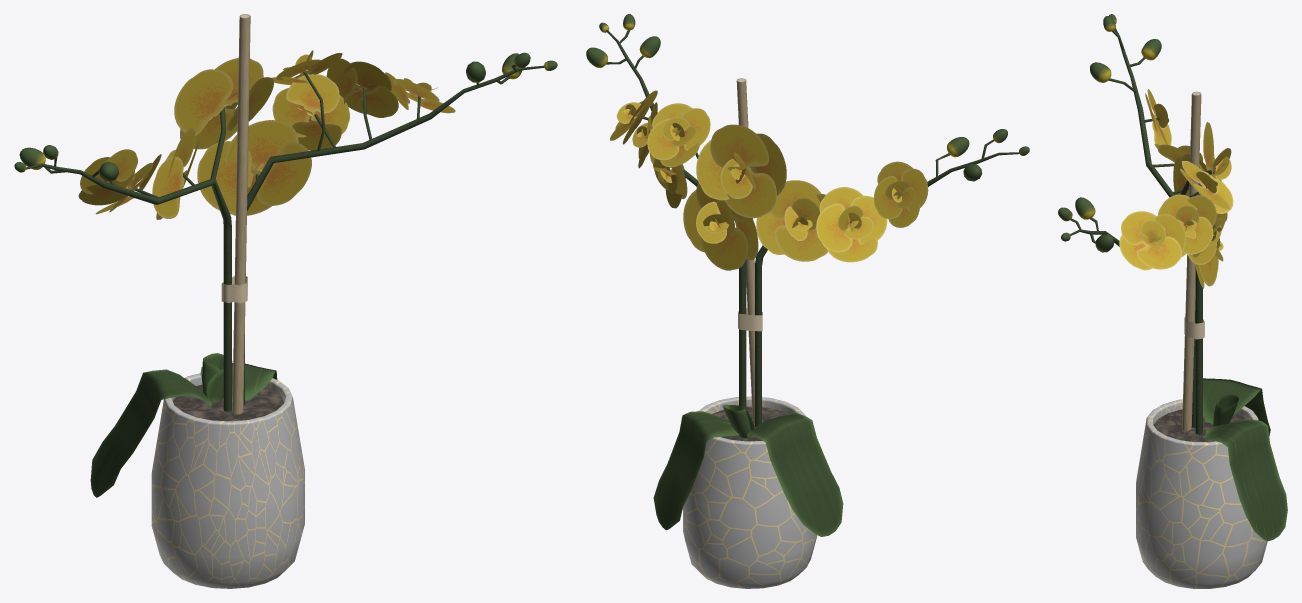
The model's file is yellow_flower.glb.
The picture shows the model from 3 angles, left to right: view 1: azimuth 30°, elevation 25°; view 2: azimuth 150°, elevation 25°; view 3: azimuth 270°, elevation 25°; orthographic projection. The views are drawn at different scales.
Visible parts, largest first — view 1: pCylinder20; view 2: pCylinder20; view 3: pCylinder20.
Boxes of the visible parts, bbox=[...] form: pCylinder20: bbox=[14, 14, 557, 588]; pCylinder20: bbox=[586, 14, 1029, 588]; pCylinder20: bbox=[1058, 14, 1287, 588].
Size of the model in its own units: 0.3828 by 0.3884 by 0.1688.
2 materials, 2 textured.
